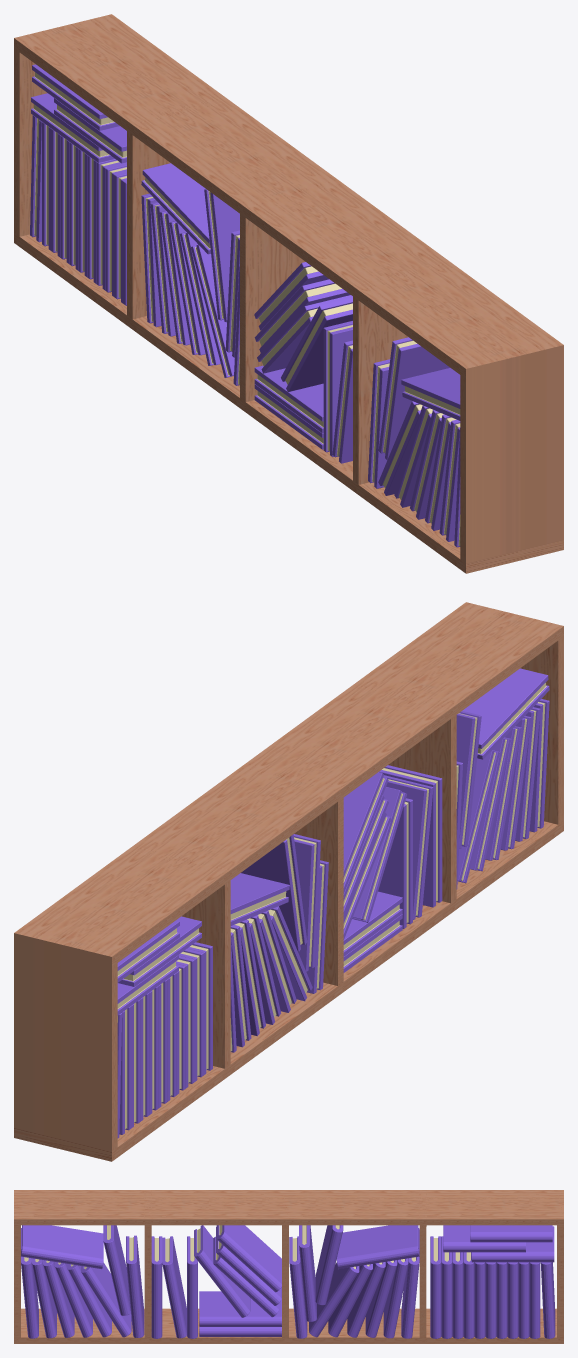
File: Bookshelf.fbx
3 renders of one model, top to bottom at view 1: azimuth 30°, elevation 25°; view 2: azimuth 150°, elevation 25°; view 3: azimuth 270°, elevation 25°, orthographic. The views are drawn at different scales.
Parts seen in each view (by area): view 1: Cube.322, Cube.370, Cube.366, Cube.394, Cube.401, Cube.393, Cube.369, Cube.390, Cube.396, Cube.395, Cube.392, Cube.364 (+27 smaller); view 2: Cube.322, Cube.369, Cube.401, Cube.397, Cube.391, Cube.393, Cube.392, Cube.400, Cube.366, Cube.370, Cube.394, Cube.385 (+28 smaller); view 3: Cube.322, Cube.369, Cube.370, Cube.397, Cube.390, Cube.394, Cube.392, Cube.358, Cube.385, Cube.366, Cube.357, Cube.368 (+31 smaller).
Boxes of the visible parts, x1=… form: Cube.322: x1=14, y1=14, x2=563, y2=573; Cube.370: x1=141, y1=163, x2=210, y2=254; Cube.366: x1=378, y1=337, x2=449, y2=459; Cube.394: x1=281, y1=297, x2=352, y2=391; Cube.401: x1=204, y1=189, x2=239, y2=322; Cube.393: x1=323, y1=321, x2=352, y2=456; Cube.369: x1=401, y1=368, x2=460, y2=420; Cube.390: x1=254, y1=365, x2=323, y2=433; Cube.396: x1=254, y1=279, x2=350, y2=352; Cube.395: x1=257, y1=295, x2=352, y2=373; Cube.392: x1=332, y1=340, x2=352, y2=463; Cube.364: x1=191, y1=244, x2=234, y2=377; Cube.322: x1=14, y1=602, x2=563, y2=1161; Cube.369: x1=462, y1=668, x2=549, y2=759; Cube.401: x1=241, y1=834, x2=307, y2=952; Cube.397: x1=343, y1=772, x2=388, y2=893; Cube.391: x1=379, y1=765, x2=442, y2=907; Cube.393: x1=378, y1=798, x2=412, y2=928; Cube.392: x1=383, y1=775, x2=433, y2=919; Cube.400: x1=293, y1=834, x2=320, y2=971; Cube.366: x1=456, y1=711, x2=481, y2=848; Cube.370: x1=230, y1=873, x2=289, y2=925; Cube.394: x1=352, y1=787, x2=406, y2=922; Cube.385: x1=457, y1=750, x2=499, y2=883; Cube.322: x1=14, y1=1190, x2=563, y2=1343; Cube.369: x1=21, y1=1225, x2=103, y2=1269; Cube.370: x1=336, y1=1225, x2=419, y2=1269; Cube.397: x1=216, y1=1225, x2=281, y2=1292; Cube.390: x1=199, y1=1291, x2=281, y2=1326; Cube.394: x1=194, y1=1225, x2=250, y2=1317; Cube.392: x1=162, y1=1236, x2=186, y2=1338; Cube.358: x1=470, y1=1225, x2=552, y2=1242; Cube.385: x1=81, y1=1262, x2=131, y2=1337; Cube.366: x1=103, y1=1225, x2=130, y2=1315; Cube.357: x1=443, y1=1225, x2=525, y2=1252; Cube.368: x1=126, y1=1235, x2=144, y2=1337.
Bounding box in the file's own units: 105 × 200 × 800.
